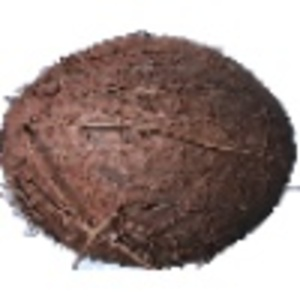coco: (1, 32, 300, 272)
